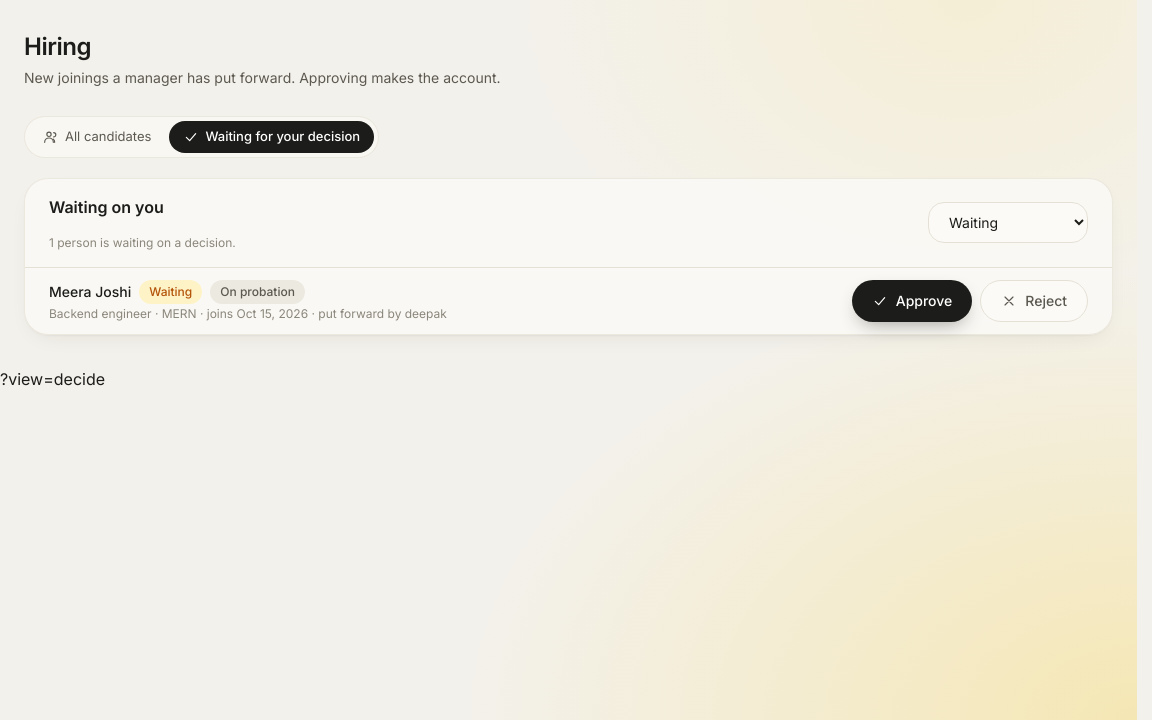
an admin deciding › approves, and hands back the password once
Click the button "Approve".
click(912, 301)  # box [852,280,972,322]
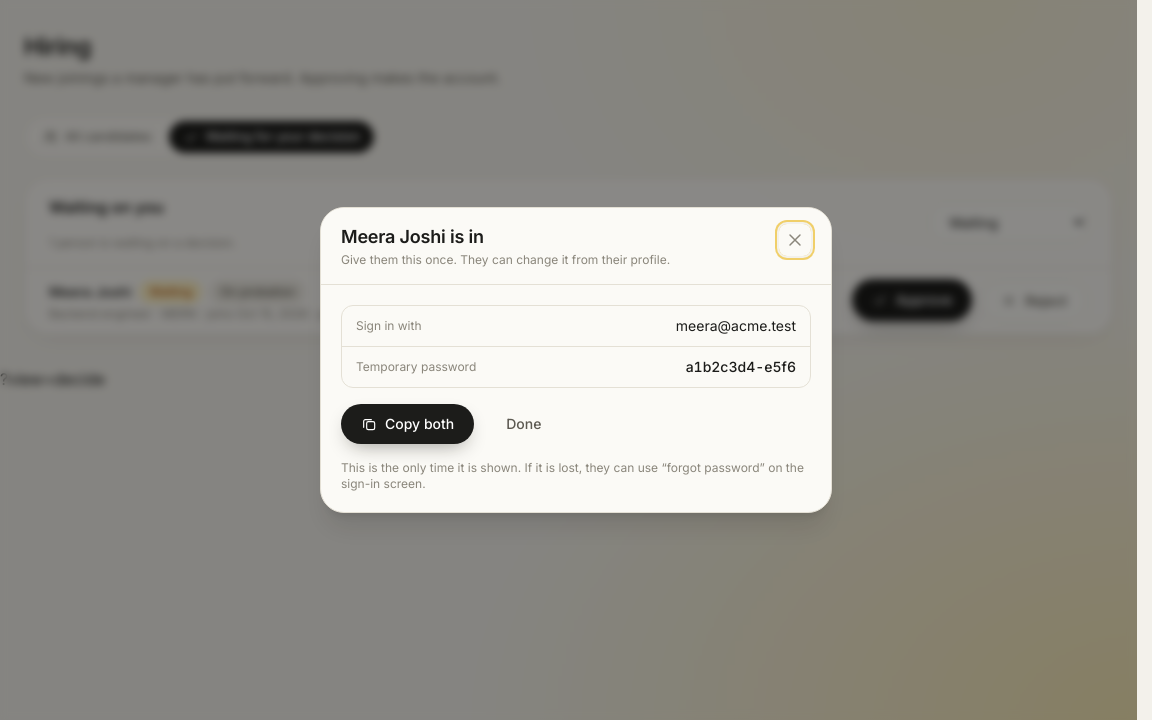
Expected: the text "a1b2c3d4-e5f6" is shown, [686,357,796,377]
